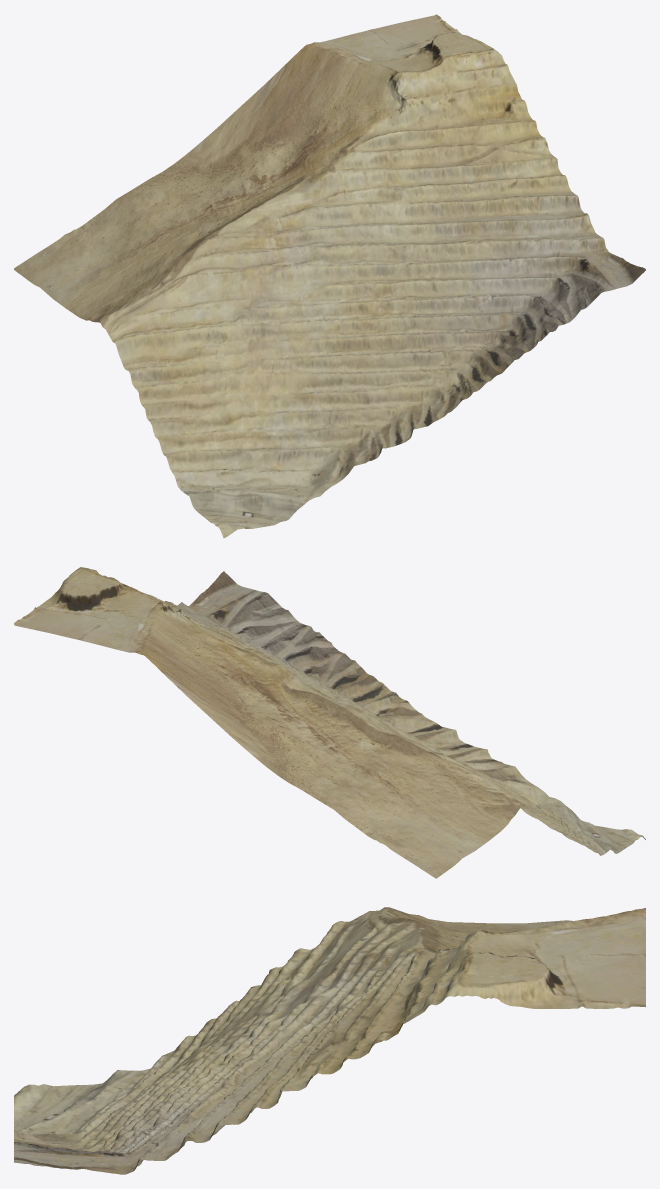
3 renders of one model, top to bottom at view 1: azimuth 30°, elevation 25°; view 2: azimuth 150°, elevation 25°; view 3: azimuth 270°, elevation 25°, orthographic. The views are drawn at different scales.
Visible parts, largest first — view 1: l2-3-3; view 2: l2-3-3; view 3: l2-3-3.
Boxes of the visible parts, left/top/right/bottom form: l2-3-3: left=14, top=14, right=645, bottom=538; l2-3-3: left=14, top=567, right=645, bottom=878; l2-3-3: left=14, top=907, right=645, bottom=1174.
Bounding box in the file's own units: 595 × 377 × 512.
Materials: 1 (1 with a texture image).
